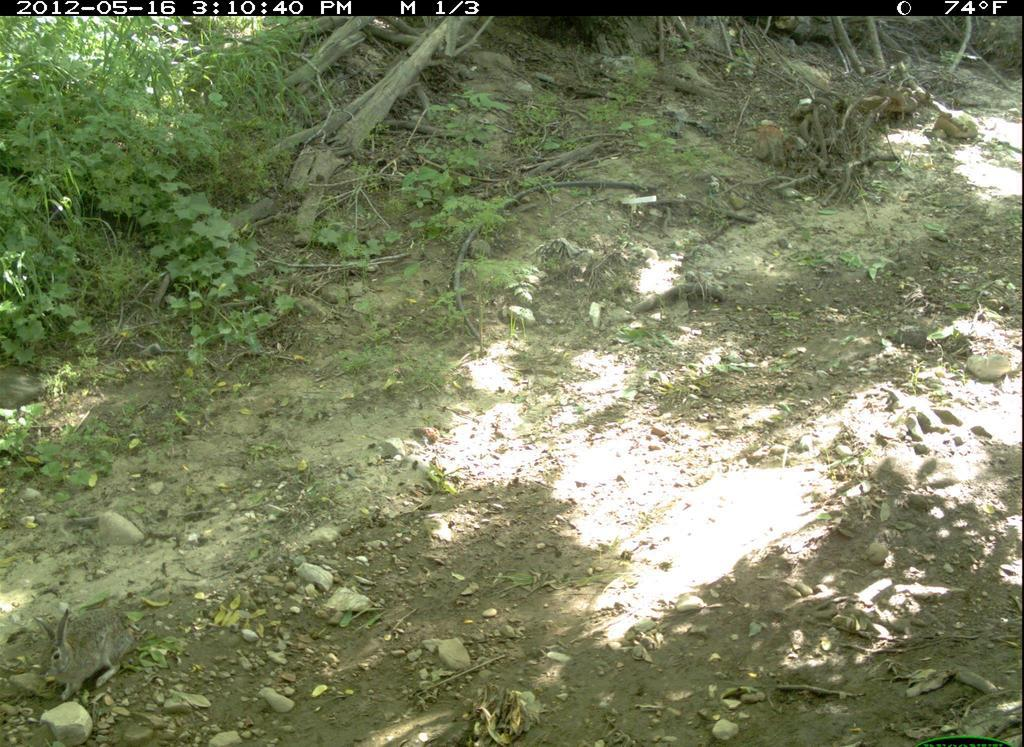rabbit: (20, 589, 146, 699)
